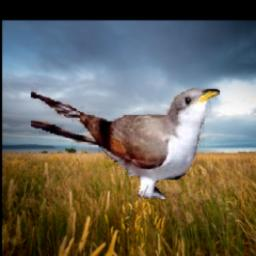Cuckoo: (32, 87, 221, 199)
